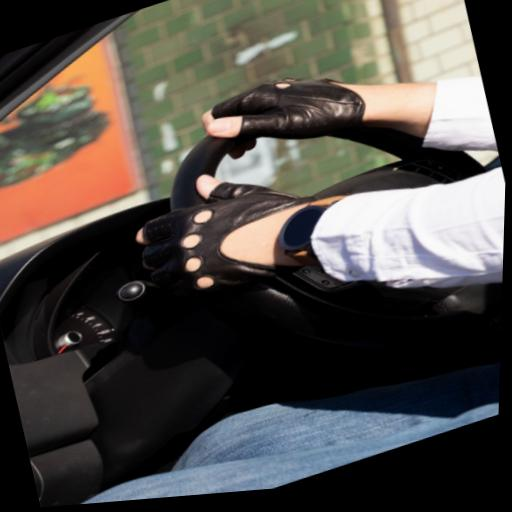Hands-on-the-Wheel: (105, 128, 365, 339), (145, 20, 453, 193)
